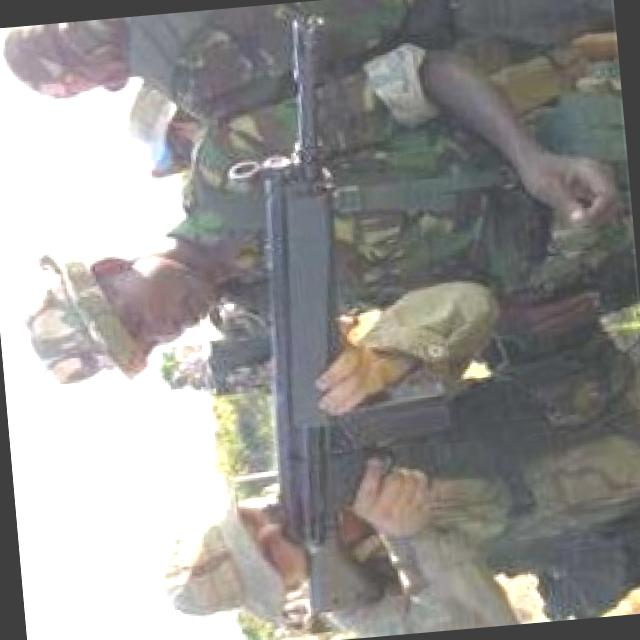long weapon: (218, 0, 462, 630)
